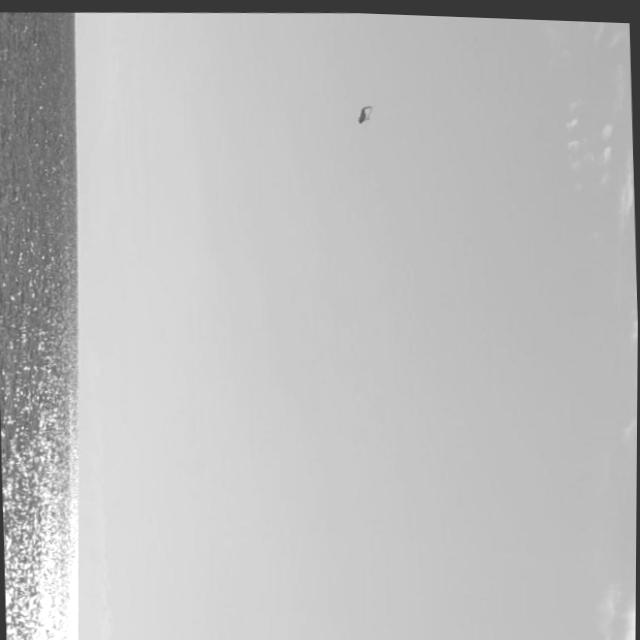helikopter: (336, 92, 389, 142)
